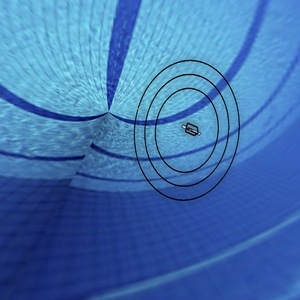circle: (130, 57, 243, 205)
submarine: (175, 112, 207, 150)
